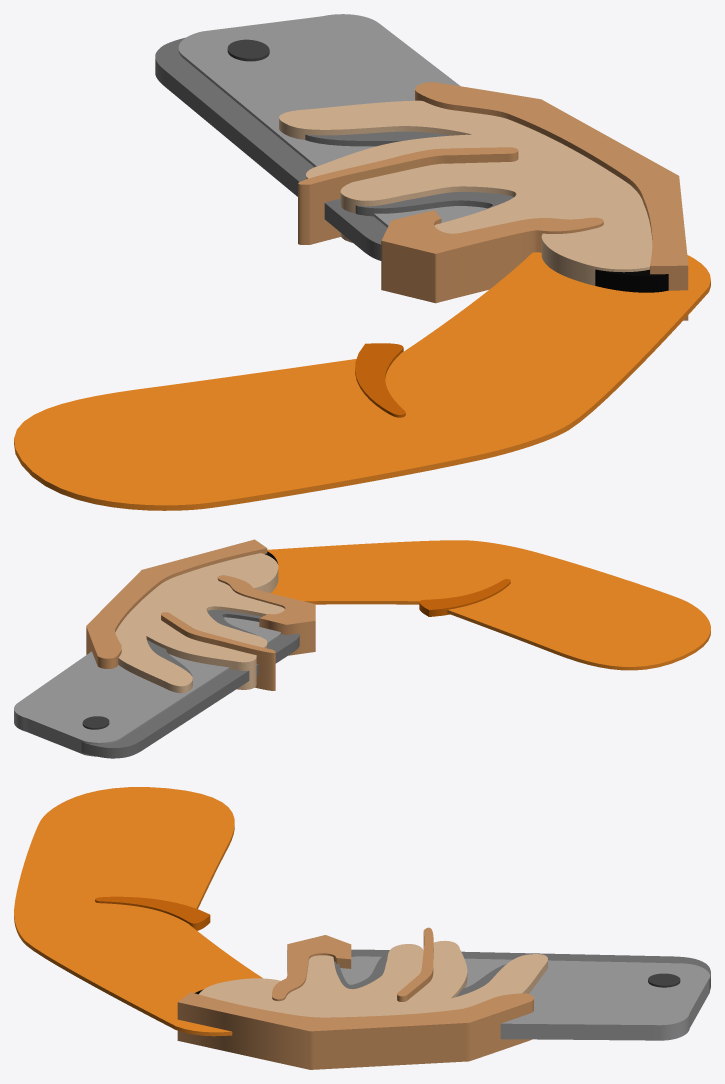
Rendered from emoji_u1f933_1f3fc.glb.
3 views of the same model, one above another, from view 1: azimuth 30°, elevation 25°; view 2: azimuth 150°, elevation 25°; view 3: azimuth 270°, elevation 25° (orthographic). The views are drawn at different scales.
Parts seen in each view (by area): view 1: emoji_u1f933_1f3fc; view 2: emoji_u1f933_1f3fc; view 3: emoji_u1f933_1f3fc.
Boxes of the visible parts, x1,y1,x2,y2 form: emoji_u1f933_1f3fc: (14, 14, 710, 510); emoji_u1f933_1f3fc: (14, 539, 710, 758); emoji_u1f933_1f3fc: (14, 787, 710, 1069).
Bounding box in the file's own units: 0.0291 × 0.0022 × 0.0327.
